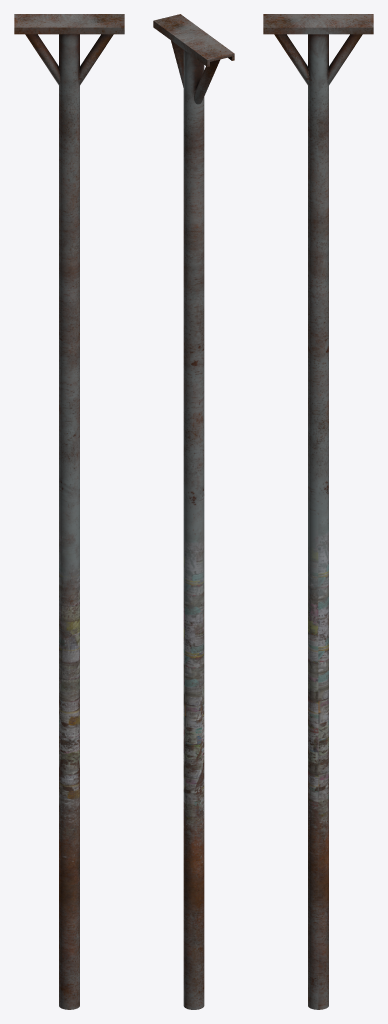
File: SM_PipeBigSupport01.FBX
The picture shows the model from 3 angles, left to right: view 1: azimuth 90°, elevation 25°; view 2: azimuth 210°, elevation 25°; view 3: azimuth 270°, elevation 25°; orthographic projection.
Parts seen in each view (by area): view 1: SM_PipeBigSupport01_LOD0; view 2: SM_PipeBigSupport01_LOD0; view 3: SM_PipeBigSupport01_LOD0.
Part boxes in pixels (box(x1,y1,x2,y2)): SM_PipeBigSupport01_LOD0: box(14, 14, 124, 1009); SM_PipeBigSupport01_LOD0: box(153, 14, 234, 1009); SM_PipeBigSupport01_LOD0: box(263, 14, 373, 1009).
Bounding box in the file's own units: 12 × 41.32 × 408.
